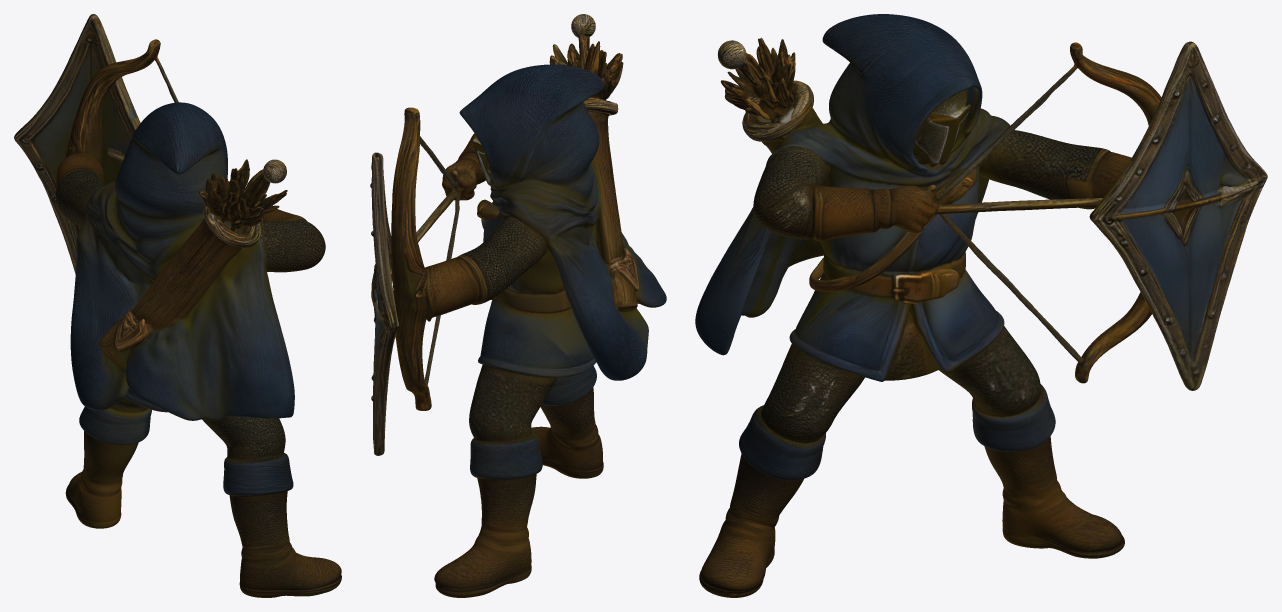
3 views of the same model, side by side, from view 1: azimuth 30°, elevation 25°; view 2: azimuth 150°, elevation 25°; view 3: azimuth 270°, elevation 25° (orthographic). The views are drawn at different scales.
Visible parts, largest first — view 1: tripo_node_19756202-433e-4465-bffd-c7931226cc8e; view 2: tripo_node_19756202-433e-4465-bffd-c7931226cc8e; view 3: tripo_node_19756202-433e-4465-bffd-c7931226cc8e.
Boxes of the visible parts, x1,y1,x2,y2 form: tripo_node_19756202-433e-4465-bffd-c7931226cc8e: (14, 14, 341, 597); tripo_node_19756202-433e-4465-bffd-c7931226cc8e: (370, 14, 666, 597); tripo_node_19756202-433e-4465-bffd-c7931226cc8e: (695, 14, 1267, 597).
Size of the model in its own units: 0.4549 by 1 by 0.962.
Materials: 1 (1 with a texture image).
